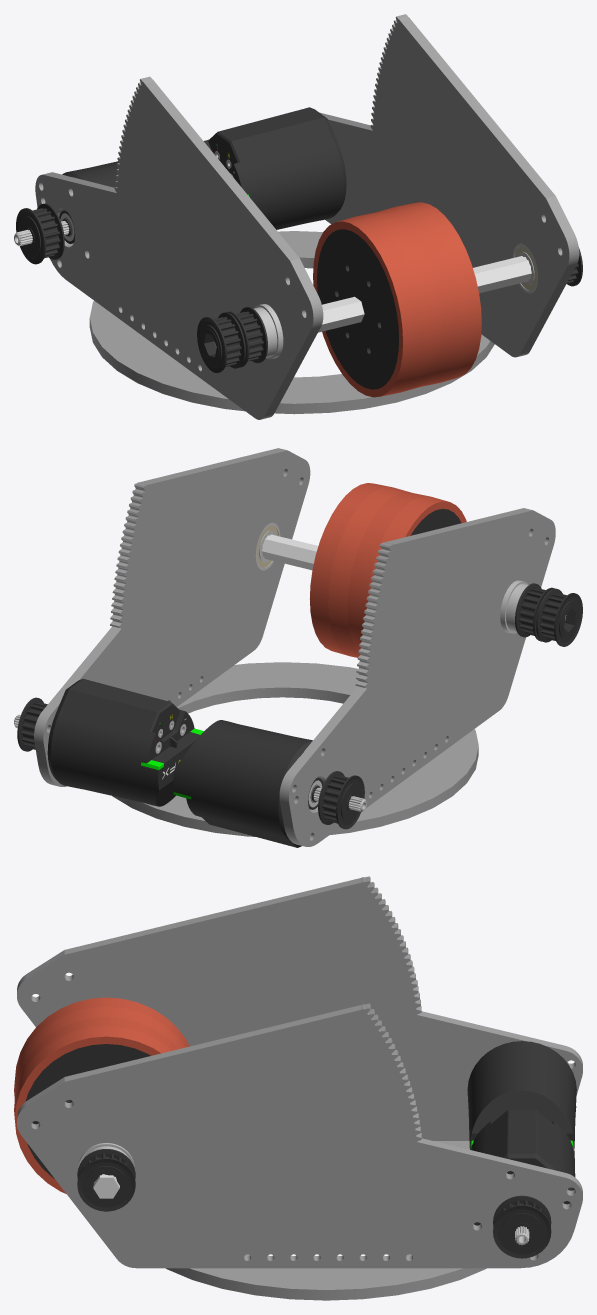
3 views of the same model, one above another, from view 1: azimuth 30°, elevation 25°; view 2: azimuth 150°, elevation 25°; view 3: azimuth 270°, elevation 25° (orthographic). The views are drawn at different scales.
Visible parts, largest first — view 1: Part 8 (×2), 4" Stealth Wheel (40A, 1/2" Hex Bore) (×2), Kraken X60 Brushless Motor (×2), Part 1, 18t Aluminum Pulley (HTD 5mm, 9mm Wide, 1/2" Hex Bore) (×2), 1/2" Hex (9" L, 7075 Aluminum), 18t Aluminum Pulley (HTD 5mm, 9mm Wide, 8mm SplineXS Bore), 1/2" Hex Bore Bearing (1.125" OD, 0.313" WD, Shielded, Flang (×2); view 2: Part 8 (×2), Kraken X60 Brushless Motor (×2), Part 1, 4" Stealth Wheel (40A, 1/2" Hex Bore) (×2), 18t Aluminum Pulley (HTD 5mm, 9mm Wide, 1/2" Hex Bore) (×2), 18t Aluminum Pulley (HTD 5mm, 9mm Wide, 8mm SplineXS Bore) (×2), 1/2" Hex (9" L, 7075 Aluminum), 1/2" Hex Bore Bearing (1.125" OD, 0.313" WD, Shielded, Flang (×2); view 3: Part 8 (×2), Kraken X60 Brushless Motor (×2), 4" Stealth Wheel (40A, 1/2" Hex Bore) (×2), Part 1, 18t Aluminum Pulley (HTD 5mm, 9mm Wide, 8mm SplineXS Bore), 18t Aluminum Pulley (HTD 5mm, 9mm Wide, 1/2" Hex Bore).
Part boxes in pixels (bbox=[...]): Part 8 (×2): bbox=[35, 14, 579, 419]; 4" Stealth Wheel (40A, 1/2" Hex Bore) (×2): bbox=[313, 202, 481, 397]; Kraken X60 Brushless Motor (×2): bbox=[14, 107, 346, 246]; Part 1: bbox=[89, 231, 494, 414]; 18t Aluminum Pulley (HTD 5mm, 9mm Wide, 1/2" Hex Bore) (×2): bbox=[197, 307, 267, 372]; 1/2" Hex (9" L, 7075 Aluminum): bbox=[214, 256, 531, 347]; 18t Aluminum Pulley (HTD 5mm, 9mm Wide, 8mm SplineXS Bore): bbox=[16, 203, 64, 264]; 1/2" Hex Bore Bearing (1.125" OD, 0.313" WD, Shielded, Flang (×2): bbox=[253, 243, 537, 359]; Part 8 (×2): bbox=[34, 448, 555, 846]; Kraken X60 Brushless Motor (×2): bbox=[14, 678, 366, 847]; Part 1: bbox=[112, 662, 478, 836]; 4" Stealth Wheel (40A, 1/2" Hex Bore) (×2): bbox=[310, 483, 466, 657]; 18t Aluminum Pulley (HTD 5mm, 9mm Wide, 1/2" Hex Bore) (×2): bbox=[515, 583, 582, 646]; 18t Aluminum Pulley (HTD 5mm, 9mm Wide, 8mm SplineXS Bore) (×2): bbox=[17, 697, 364, 829]; 1/2" Hex (9" L, 7075 Aluminum): bbox=[262, 534, 566, 620]; 1/2" Hex Bore Bearing (1.125" OD, 0.313" WD, Shielded, Flang (×2): bbox=[255, 522, 528, 633]; Part 8 (×2): bbox=[17, 876, 582, 1268]; Kraken X60 Brushless Motor (×2): bbox=[467, 1041, 576, 1245]; 4" Stealth Wheel (40A, 1/2" Hex Bore) (×2): bbox=[14, 997, 189, 1193]; Part 1: bbox=[166, 1141, 486, 1300]; 18t Aluminum Pulley (HTD 5mm, 9mm Wide, 8mm SplineXS Bore): bbox=[493, 1195, 551, 1258]; 18t Aluminum Pulley (HTD 5mm, 9mm Wide, 1/2" Hex Bore): bbox=[77, 1149, 135, 1211].
Size of the model in its own units: 0.2406 by 0.1638 by 0.3124.
